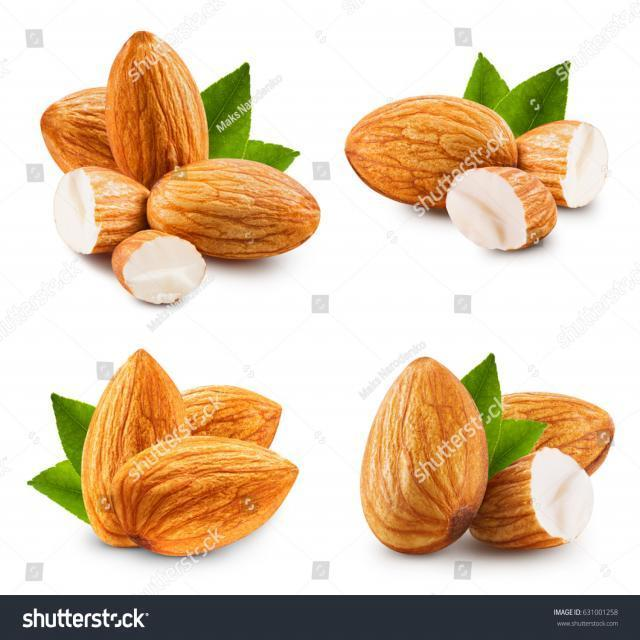almond: (360, 353, 487, 562), (107, 430, 297, 555), (80, 348, 192, 552), (344, 90, 519, 210), (148, 162, 320, 260), (103, 32, 212, 177)
